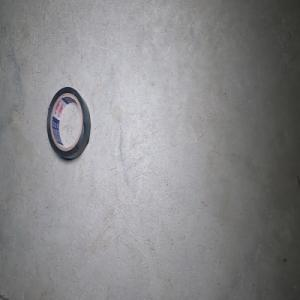Tape: (46, 86, 90, 159)
